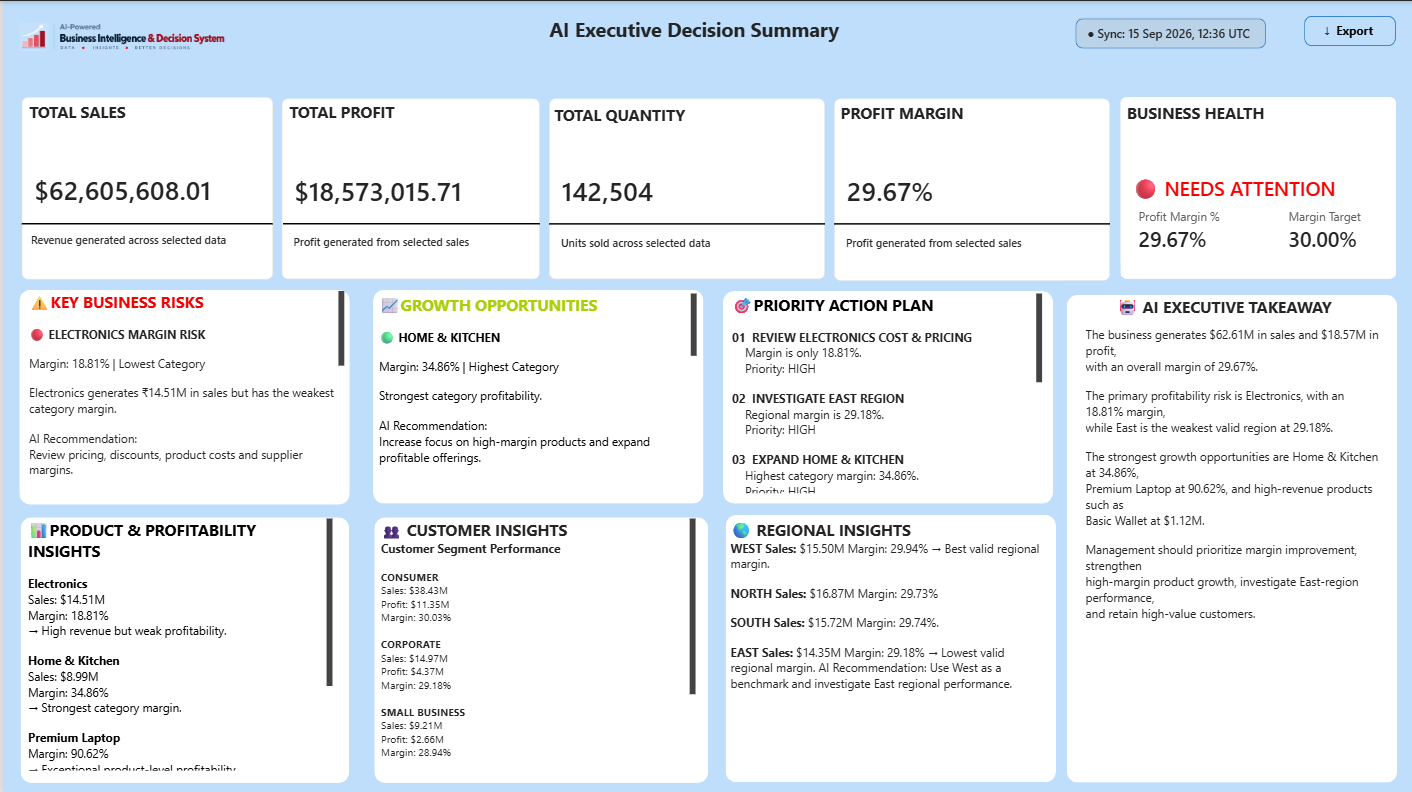

What the dashboard file says about the page in this screenshot:
{"tool":"powerbi","page":{"name":"AI Executive Summary","canvas":[1920,1080],"ordinal":2},"visuals":[{"type":"shape","box":[983.3,700,450,364.3],"z":0},{"type":"shape","box":[504.8,702.4,454.8,361.9],"z":1000},{"type":"shape","box":[22.2,392.2,450,292.5],"z":2000},{"type":"shape","box":[504.4,392.2,450,291.4],"z":3000},{"type":"textbox","box":[35.6,394.4,428.9,266.7],"z":4000},{"type":"image","box":[0,0,323.2,97.8],"z":5000},{"type":"cardVisual","fields":{"Data":["SalesData.Total Sales Display"]},"box":[25.3,131,342.5,248.3],"z":6000},{"type":"cardVisual","fields":{"Data":["SalesData.Total Profit Display"]},"box":[379.5,133.3,351.3,246.2],"z":7000},{"type":"cardVisual","fields":{"Data":["SalesData.Total Quantity Display"]},"box":[743.2,132.1,375,246.7],"z":8000},{"type":"textbox","box":[512.2,397.8,432.2,268.9],"z":9000},{"type":"shape","box":[980,395.6,449.4,289.4],"z":10000},{"type":"textbox","box":[991.1,398.9,422.2,272.2],"z":11000},{"type":"shape","box":[1447.6,400,450,664.3],"z":12000},{"type":"textbox","box":[514.3,704.8,428.6,342.9],"z":13000},{"type":"shape","box":[23.8,702.4,447.6,361.9],"z":14000},{"type":"textbox","box":[33.3,704.8,414.3,342.9],"z":15000},{"type":"textbox","box":[990.5,704.8,428.6,342.9],"z":16000},{"type":"textbox","box":[36.1,136.1,141.7,41.7],"z":17000},{"type":"textbox","box":[750,138.9,186.1,41.7],"z":18000},{"type":"textbox","box":[388.9,136.1,147.2,41.7],"z":19000},{"type":"cardVisual","fields":{"Data":["SalesData.Profit Margin %"]},"box":[1132.1,132.1,375.3,248.1],"z":20000},{"type":"textbox","box":[1139.5,138.3,184,40.7],"z":21000},{"type":"cardVisual","fields":{"Data":["SalesData.Business Health"]},"box":[1520.5,131.8,375,247.7],"z":22000},{"type":"textbox","box":[1529.6,138.3,216,40.7],"z":23000},{"type":"cardVisual","fields":{"Data":["SalesData.Profit Margin %"]},"box":[1529.5,281.8,145.5,61.4],"z":24000},{"type":"cardVisual","fields":{"Data":["SalesData.Margin Target"]},"box":[1734.1,281.8,143.2,61.4],"z":25000},{"type":"cardVisual","fields":{"Data":["SalesData.Sales Insight"]},"box":[22.2,281.5,344.4,87.7],"z":26000},{"type":"shape","box":[25.2,255.8,341.5,95.9],"z":27000},{"type":"shape","box":[380.3,255.8,349.7,95.9],"z":28000},{"type":"cardVisual","fields":{"Data":["SalesData.Profit Insight"]},"box":[380,290,348.8,78.8],"z":29000},{"type":"shape","box":[743.2,255.6,375.3,96.3],"z":30000},{"type":"cardVisual","fields":{"Data":["SalesData.Quantity Insight"]},"box":[743.2,293.8,375.3,70.4],"z":31000},{"type":"shape","box":[1132.1,255.6,375.3,96.3],"z":32000},{"type":"cardVisual","fields":{"Data":["SalesData.Profit Insight"]},"box":[1132.1,295.1,375.3,70.4],"z":33000},{"type":"shape","box":[1459.3,23.1,259.3,40.7],"z":34000},{"type":"cardVisual","fields":{"Data":["SalesData.Sync Status"]},"box":[1459.3,22.2,259.3,42.6],"z":35000},{"type":"shape","box":[1770.5,20.5,124.6,40.8],"z":36000},{"type":"textbox","box":[1797.7,29.5,90.9,22.7],"z":37000},{"type":"textbox","box":[1515.9,402.3,300,40.9],"z":38000},{"type":"textbox","box":[1472.7,443.2,404.5,604.5],"z":39000},{"type":"textbox","box":[743.2,20.5,422.7,79.5],"z":40000}]}

Visuals, with their boxes in screenshot pixels (x1, y1, x2, y2), scaled from the page's 1920x1080 canvas onto the 1412x792 screenshot:
shape: (left=723, top=513, right=1054, bottom=780)
shape: (left=371, top=515, right=706, bottom=780)
shape: (left=16, top=288, right=347, bottom=502)
shape: (left=371, top=288, right=702, bottom=501)
textbox: (left=26, top=289, right=342, bottom=485)
image: (left=0, top=0, right=238, bottom=72)
cardVisual - SalesData.Total Sales Display: (left=19, top=96, right=270, bottom=278)
cardVisual - SalesData.Total Profit Display: (left=279, top=98, right=537, bottom=278)
cardVisual - SalesData.Total Quantity Display: (left=547, top=97, right=822, bottom=278)
textbox: (left=377, top=292, right=695, bottom=489)
shape: (left=721, top=290, right=1051, bottom=502)
textbox: (left=729, top=293, right=1039, bottom=492)
shape: (left=1065, top=293, right=1396, bottom=780)
textbox: (left=378, top=517, right=693, bottom=768)
shape: (left=18, top=515, right=347, bottom=780)
textbox: (left=24, top=517, right=329, bottom=768)
textbox: (left=728, top=517, right=1044, bottom=768)
textbox: (left=27, top=100, right=131, bottom=130)
textbox: (left=552, top=102, right=688, bottom=132)
textbox: (left=286, top=100, right=394, bottom=130)
cardVisual - SalesData.Profit Margin %: (left=833, top=97, right=1109, bottom=279)
textbox: (left=838, top=101, right=973, bottom=131)
cardVisual - SalesData.Business Health: (left=1118, top=97, right=1394, bottom=278)
textbox: (left=1125, top=101, right=1284, bottom=131)
cardVisual - SalesData.Profit Margin %: (left=1125, top=207, right=1232, bottom=252)
cardVisual - SalesData.Margin Target: (left=1275, top=207, right=1381, bottom=252)
cardVisual - SalesData.Sales Insight: (left=16, top=206, right=270, bottom=271)
shape: (left=19, top=188, right=270, bottom=258)
shape: (left=280, top=188, right=537, bottom=258)
cardVisual - SalesData.Profit Insight: (left=279, top=213, right=536, bottom=270)
shape: (left=547, top=187, right=823, bottom=258)
cardVisual - SalesData.Quantity Insight: (left=547, top=215, right=823, bottom=267)
shape: (left=833, top=187, right=1109, bottom=258)
cardVisual - SalesData.Profit Insight: (left=833, top=216, right=1109, bottom=268)
shape: (left=1073, top=17, right=1264, bottom=47)
cardVisual - SalesData.Sync Status: (left=1073, top=16, right=1264, bottom=48)
shape: (left=1302, top=15, right=1394, bottom=45)
textbox: (left=1322, top=22, right=1389, bottom=38)
textbox: (left=1115, top=295, right=1335, bottom=325)
textbox: (left=1083, top=325, right=1381, bottom=768)
textbox: (left=547, top=15, right=857, bottom=73)
